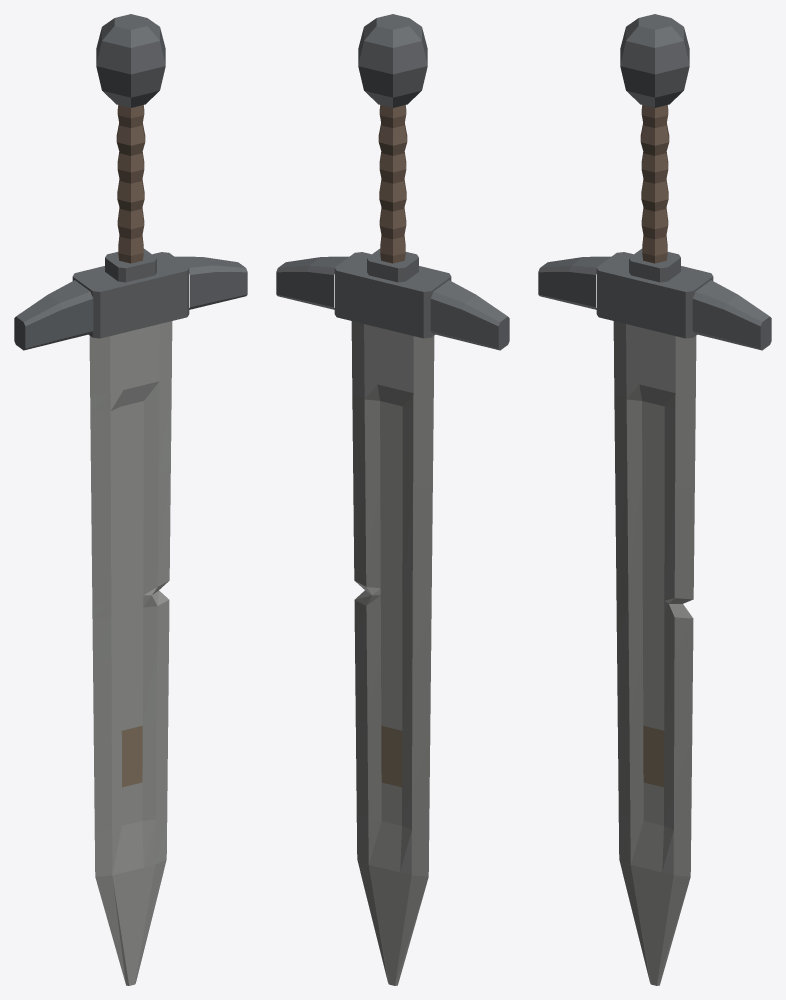
The model's file is arming-sword-401972.glb.
The picture shows the model from 3 angles, left to right: view 1: azimuth 30°, elevation 25°; view 2: azimuth 150°, elevation 25°; view 3: azimuth 330°, elevation 25°; orthographic projection.
Parts seen in each view (by area): view 1: arming-sword; view 2: arming-sword; view 3: arming-sword.
Boxes of the visible parts, x1,y1,x2,y2 form: arming-sword: [14, 14, 247, 985]; arming-sword: [276, 14, 509, 985]; arming-sword: [538, 14, 771, 985].
Size of the model in its own units: 0.23 by 0.951 by 0.0624.
